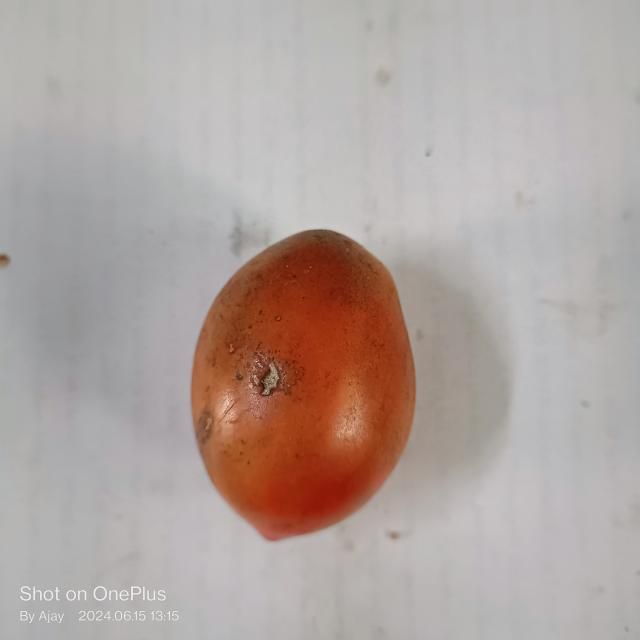Bacterial_Spot: (246, 348, 290, 396), (274, 314, 282, 322)
